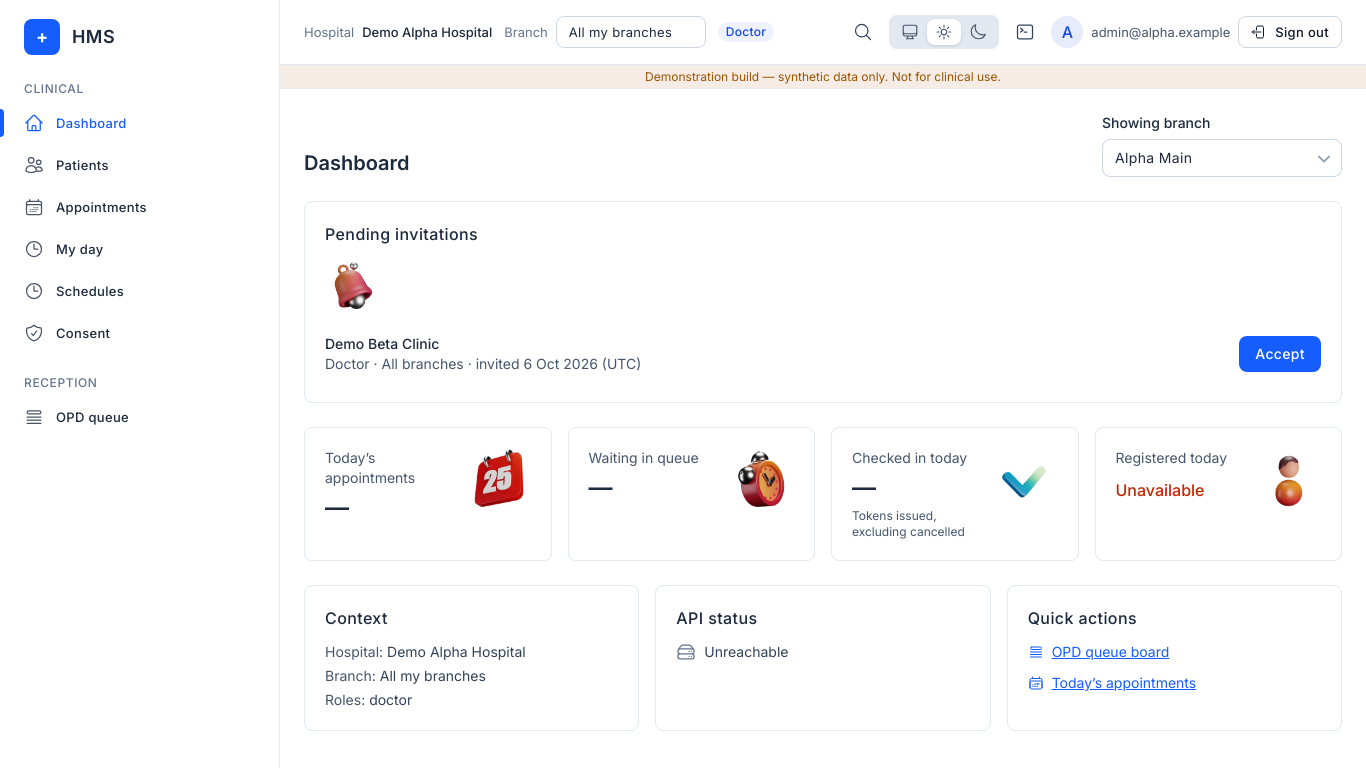
Pending invitations › reports an invitation that is no longer available (404) and refetches the list
Click the button with aria-label "accept invitation" at [1280, 354], box [1239,336,1321,372]
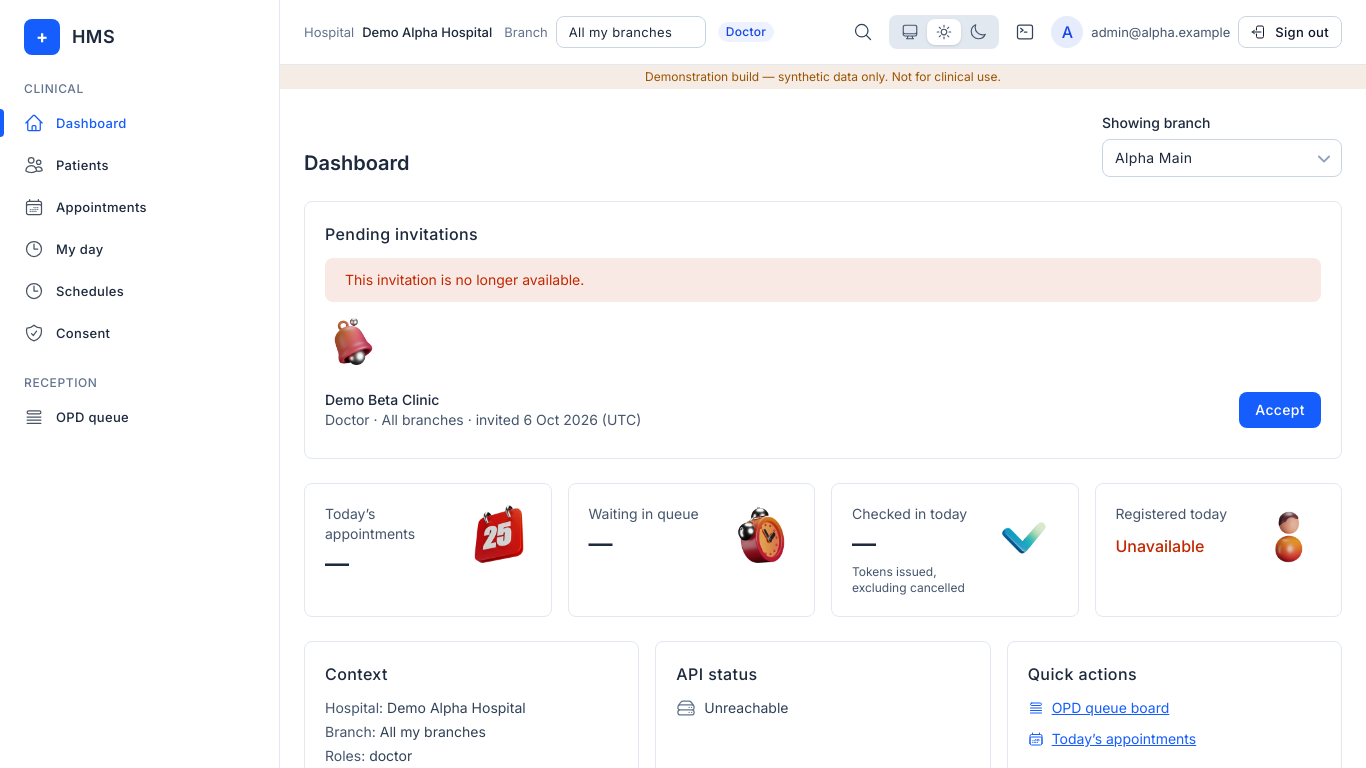
Now the text "This invitation is no longer available." is shown, box [325,258,1321,302]
